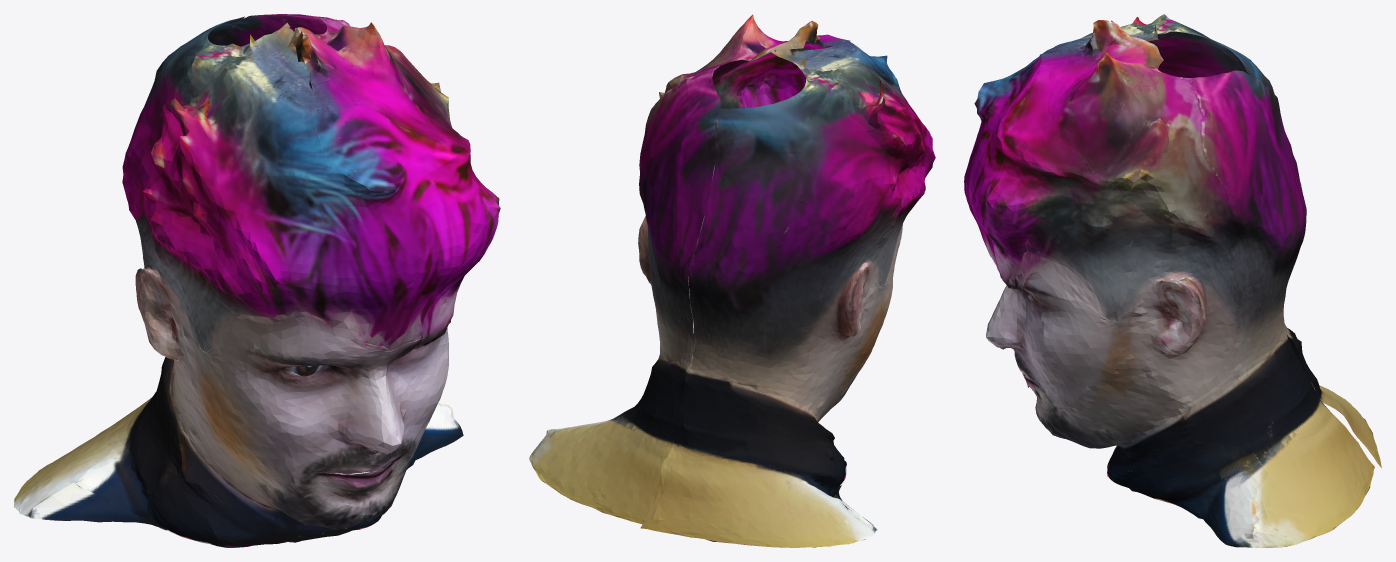
3 renders of one model, left to right at view 1: azimuth 30°, elevation 25°; view 2: azimuth 150°, elevation 25°; view 3: azimuth 270°, elevation 25°, orthographic. The views are drawn at different scales.
Bounding box in the file's own units: 1.55 × 1.8 × 1.58.
Materials: 1 (1 with a texture image).
